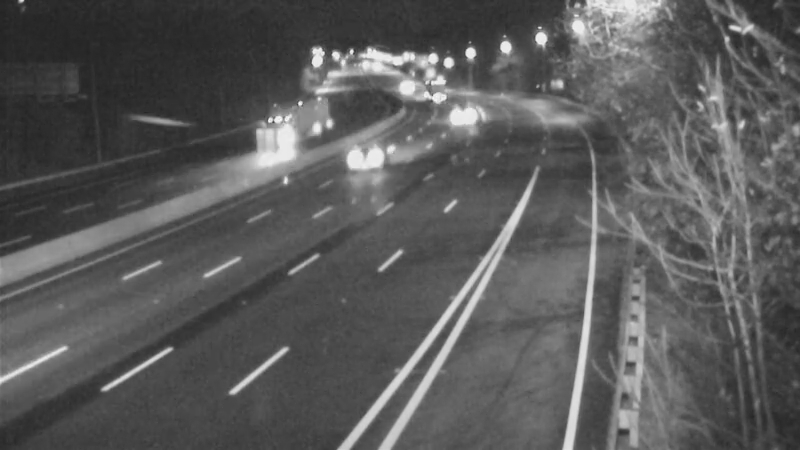vehicle: (326, 117, 406, 197), (378, 59, 428, 109), (403, 63, 453, 113), (438, 85, 488, 135), (270, 111, 320, 161)
